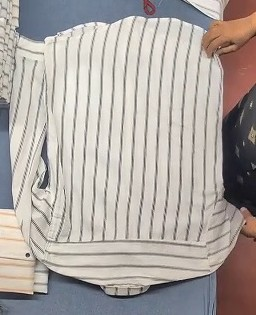SHIRT: (5, 18, 256, 301)
